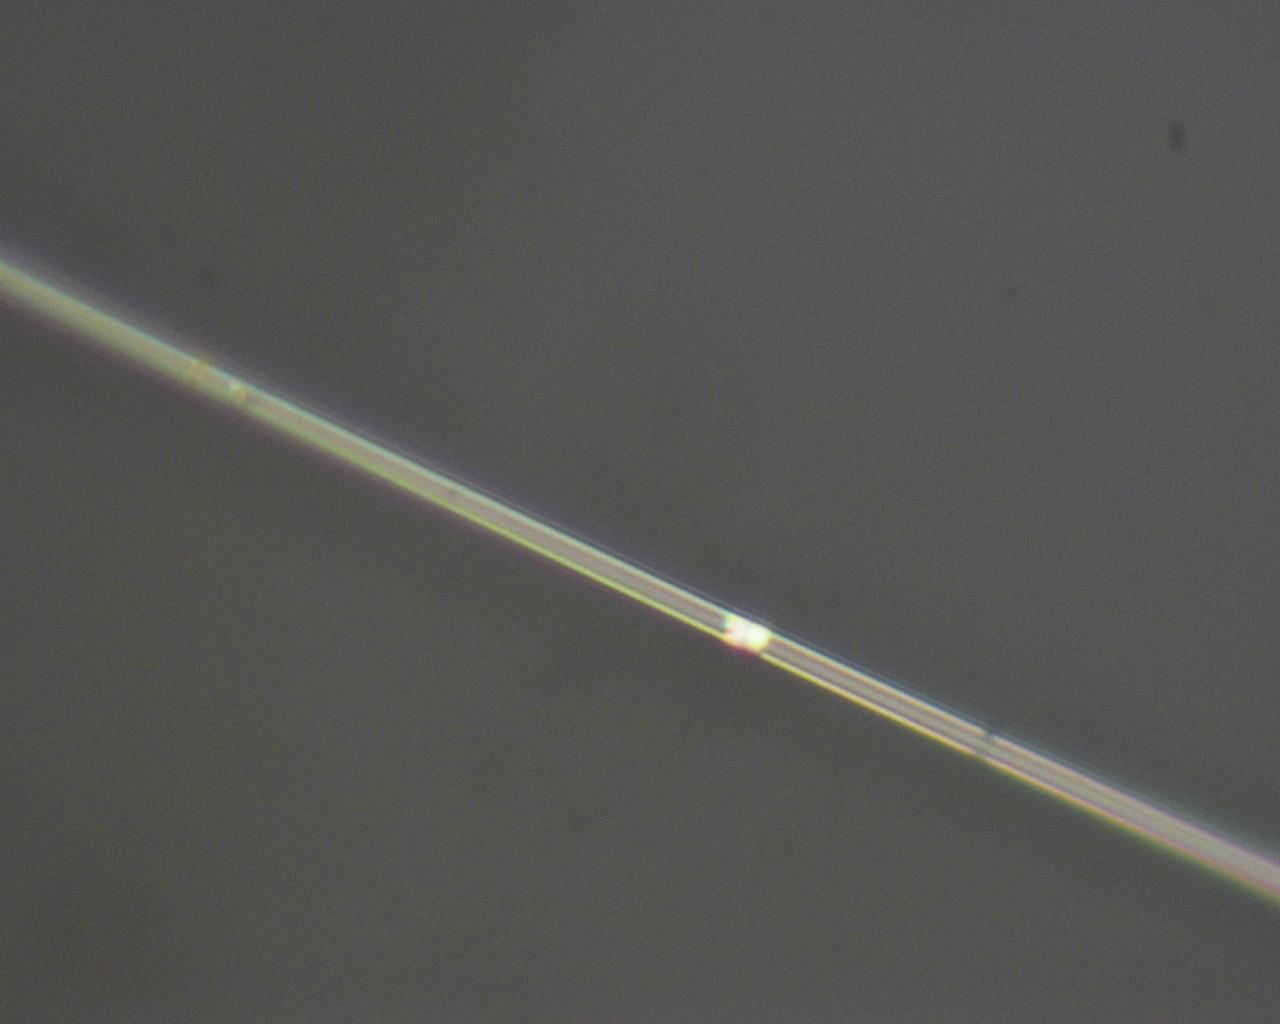fiber: (0, 94, 729, 457), (729, 737, 1273, 903), (517, 737, 729, 1024), (729, 286, 1280, 392)
